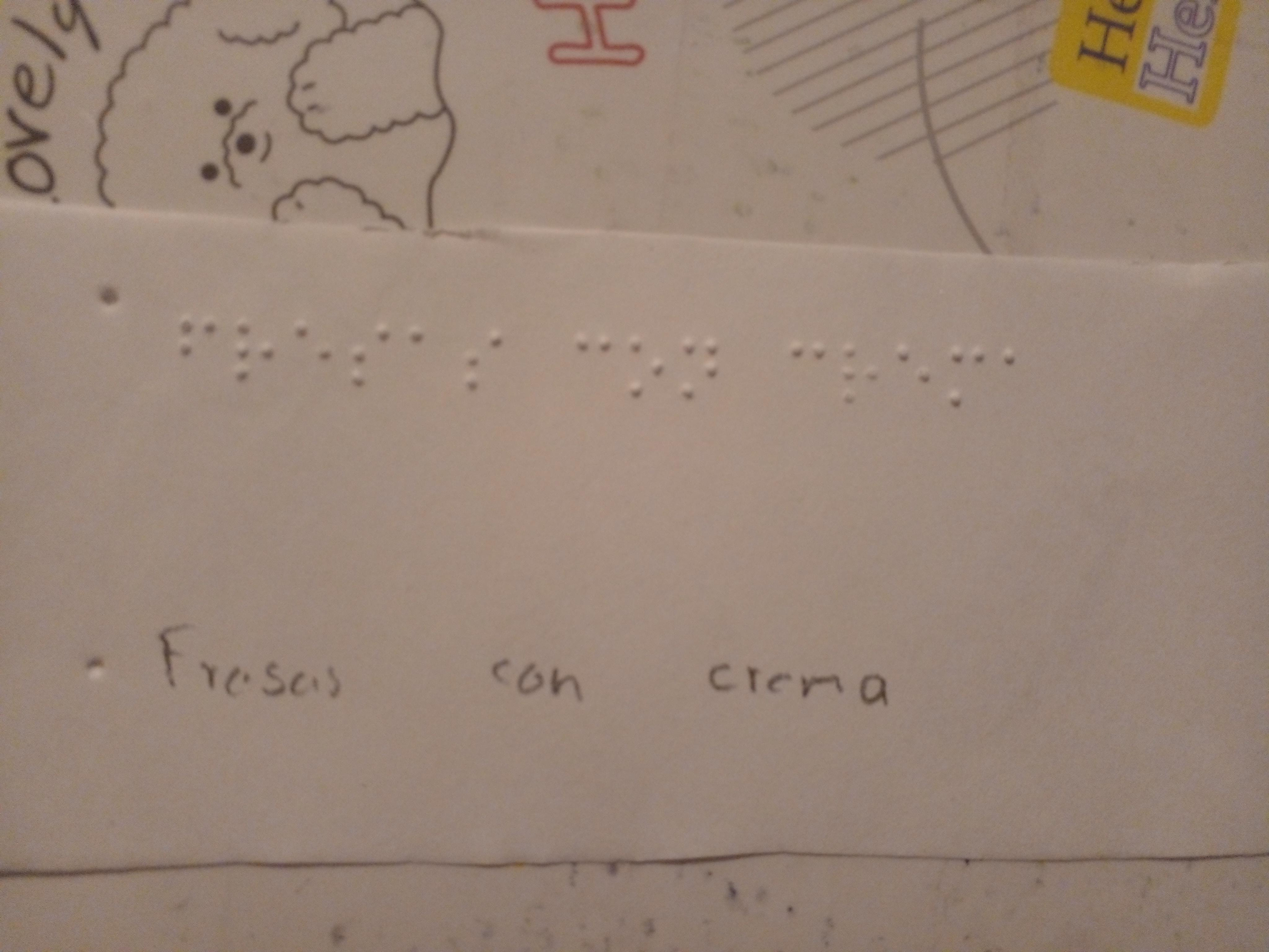a: (389, 318, 437, 366), (993, 338, 1025, 386)
c: (765, 333, 829, 394), (565, 319, 624, 383)
e: (291, 313, 339, 375), (892, 336, 934, 403)
f: (163, 308, 228, 384)
m: (940, 335, 990, 415)
n: (674, 332, 728, 408)
o: (626, 332, 671, 412)
r: (832, 341, 898, 418), (231, 316, 277, 395)
s: (344, 316, 393, 404), (452, 322, 508, 395)
